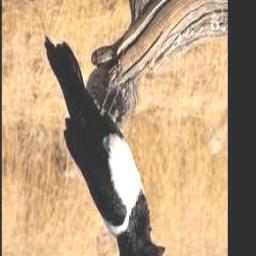Crow: (44, 35, 166, 256)
